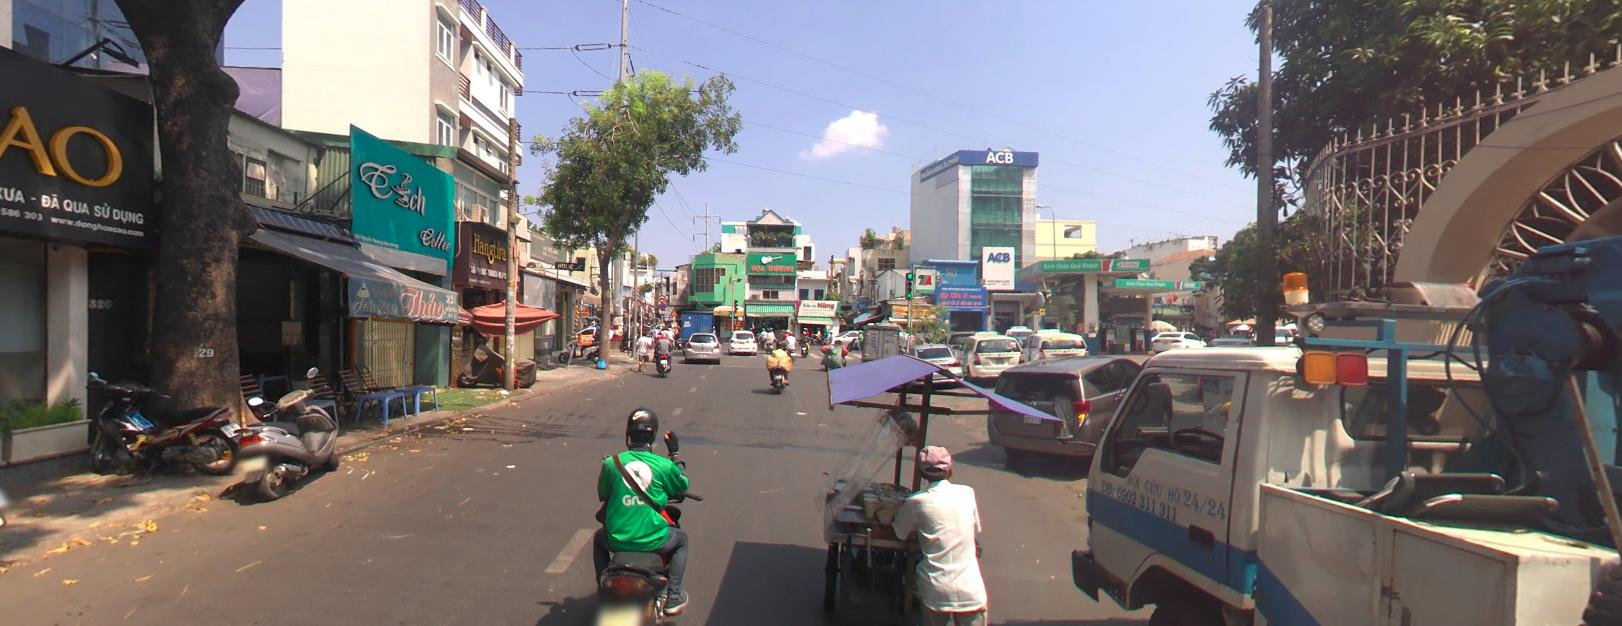Cam con lai: (658, 293, 665, 300)
Cam dung va do: (658, 301, 665, 307)
Nguy hiem: (670, 308, 677, 314)
